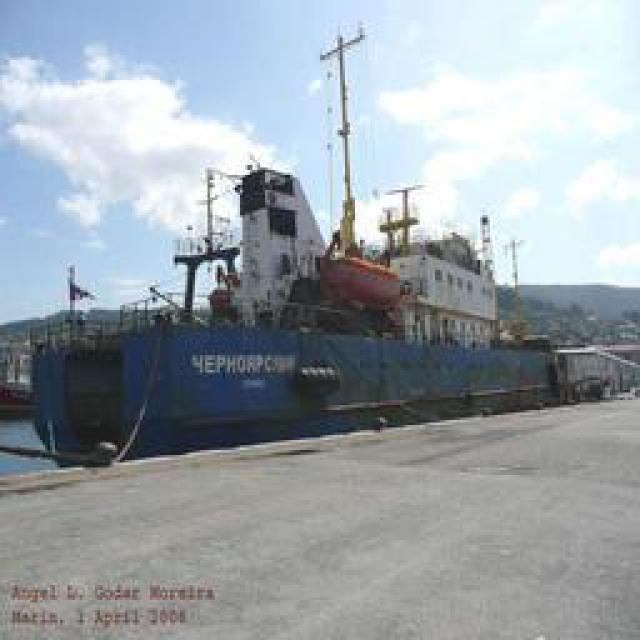Ship: (106, 146, 586, 459)
